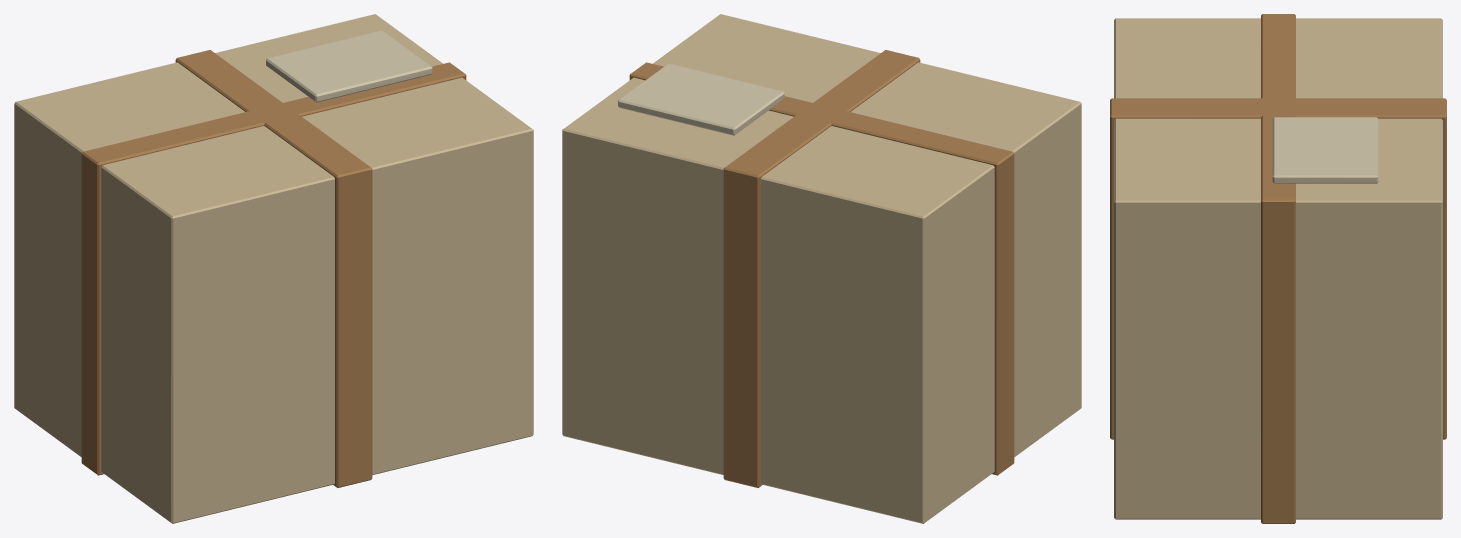
File: parcel_low.glb
The picture shows the model from 3 angles, left to right: view 1: azimuth 30°, elevation 25°; view 2: azimuth 150°, elevation 25°; view 3: azimuth 270°, elevation 25°; orthographic projection. The views are drawn at different scales.
Size of the model in its own units: 0.377 by 0.3145 by 0.287.
